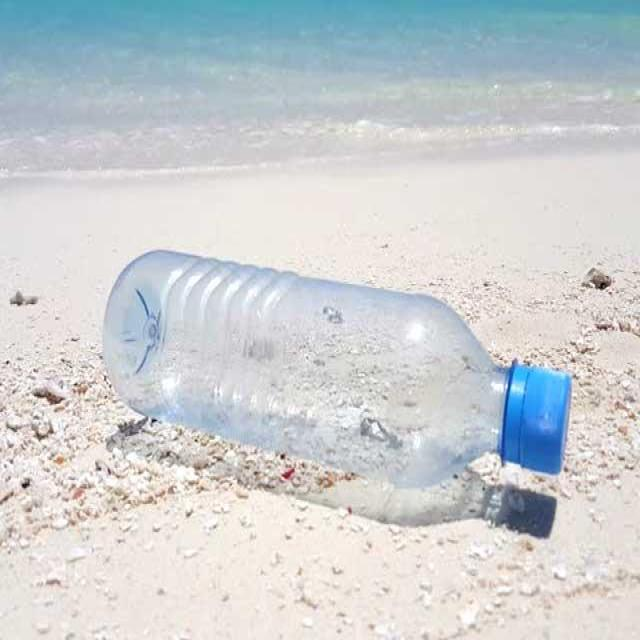bottle: (79, 188, 566, 520)
